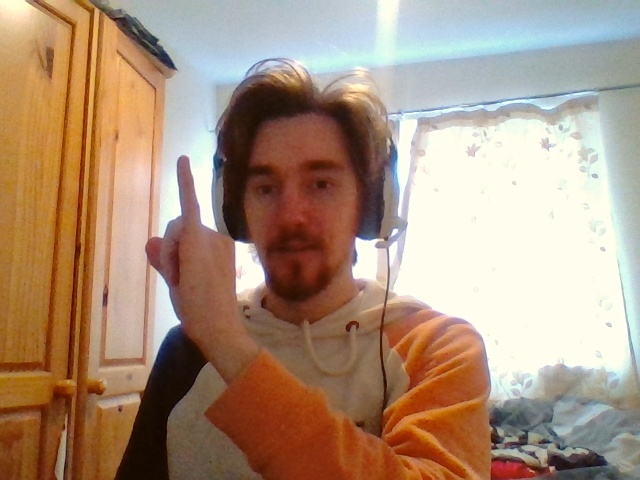bad: (144, 156, 234, 321)
